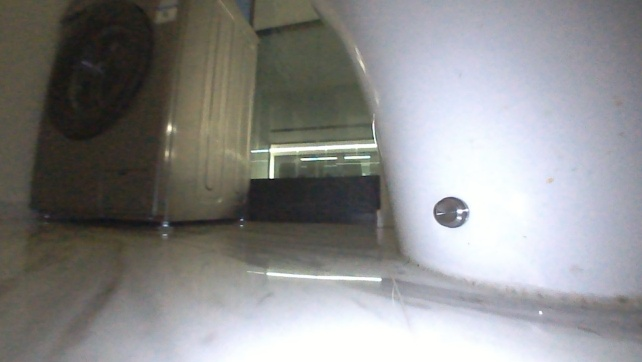toilet: (303, 1, 640, 317)
washing_machine: (30, 1, 254, 226)
